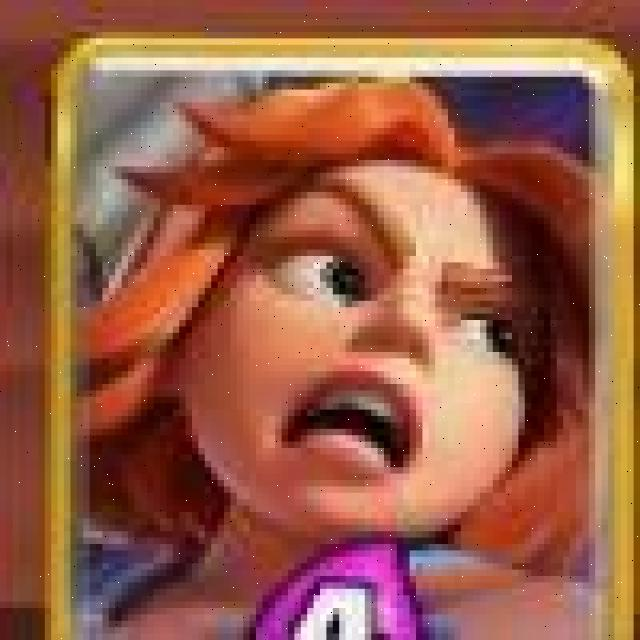Valkyrie: (49, 41, 640, 640)
